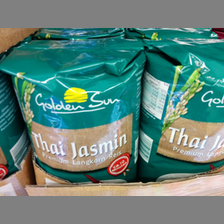rice: (1, 39, 147, 182), (140, 40, 224, 179)
